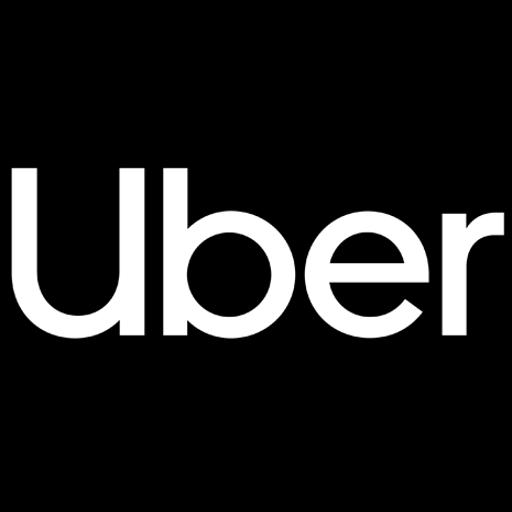Uber: (0, 158, 512, 353)
